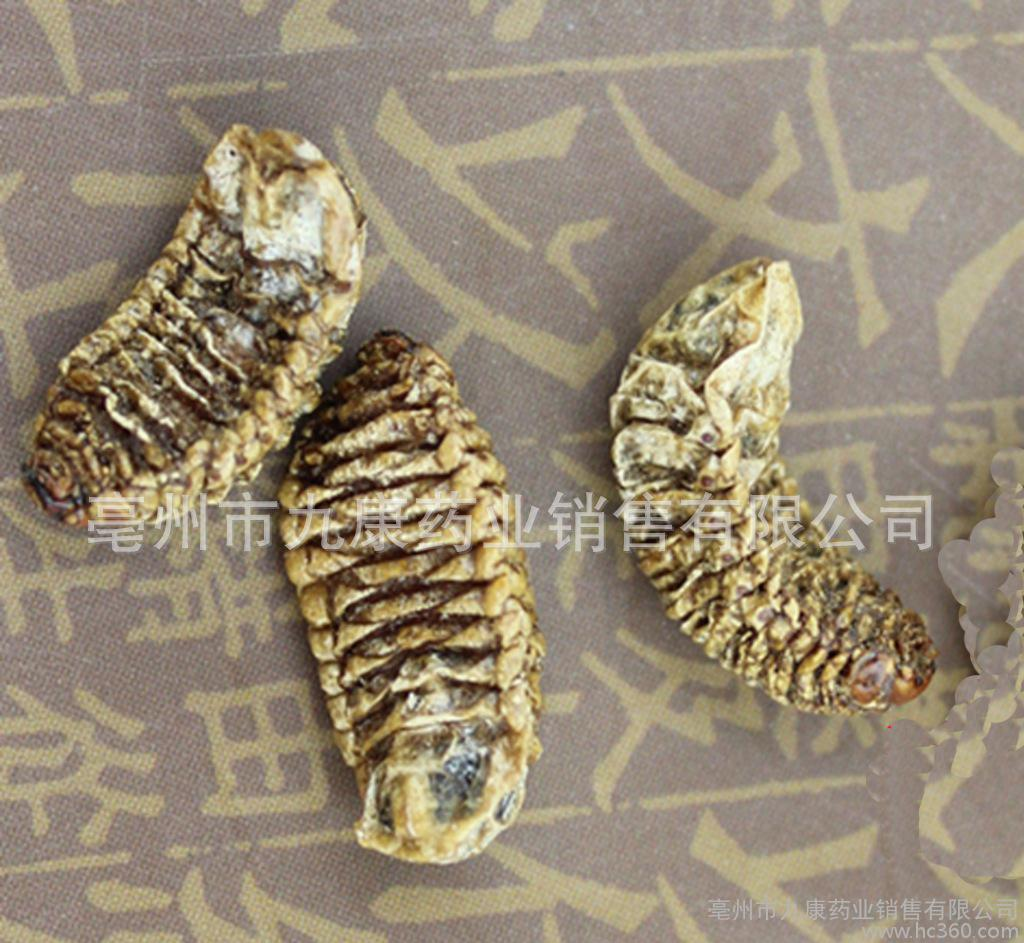grub: (22, 48, 365, 499)
